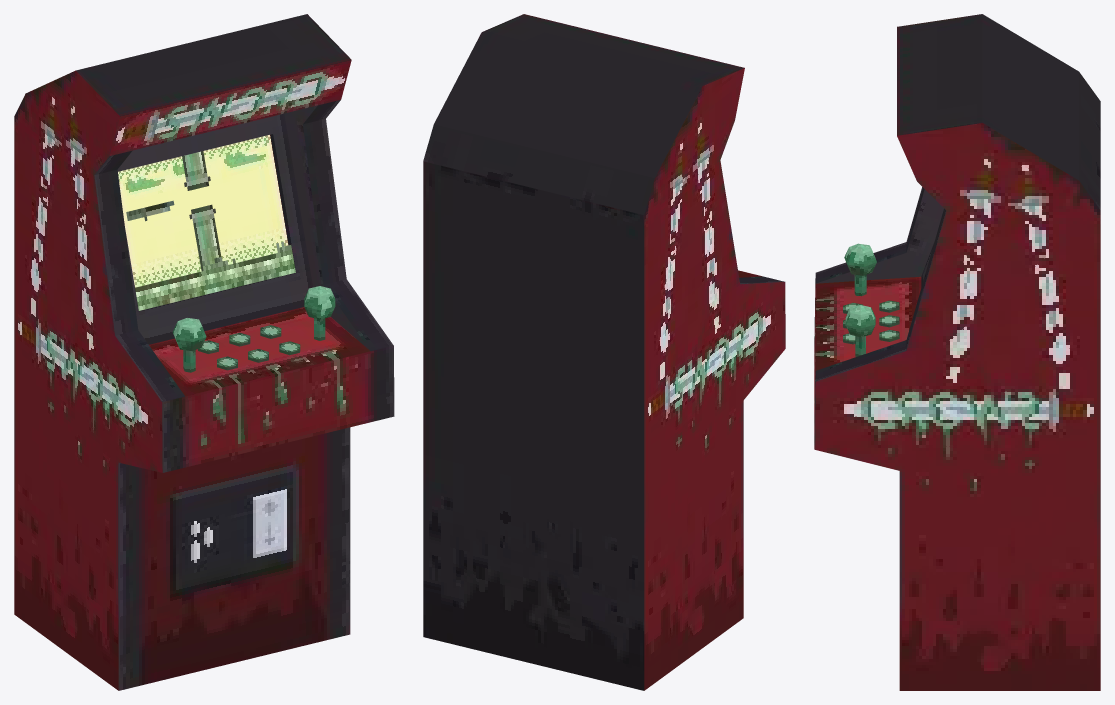
File: arcade.gltf
3 renders of one model, left to right at view 1: azimuth 30°, elevation 25°; view 2: azimuth 150°, elevation 25°; view 3: azimuth 270°, elevation 25°, orthographic. The views are drawn at different scales.
Visible parts, largest first — view 1: body; view 2: body; view 3: body.
Part boxes in pixels (x1,y1,x2,y2): body: (14,14,394,690); body: (423,14,785,690); body: (814,14,1100,690).
Size of the model in its own units: 0.7202 by 1.75 by 0.799.
3 materials, 3 textured.
